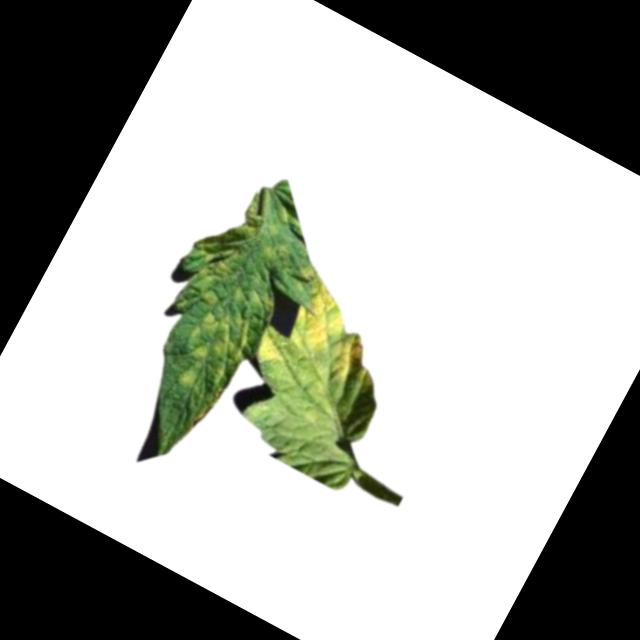Leaf_Mold: (124, 255, 281, 439), (248, 260, 406, 418), (181, 175, 280, 295)
